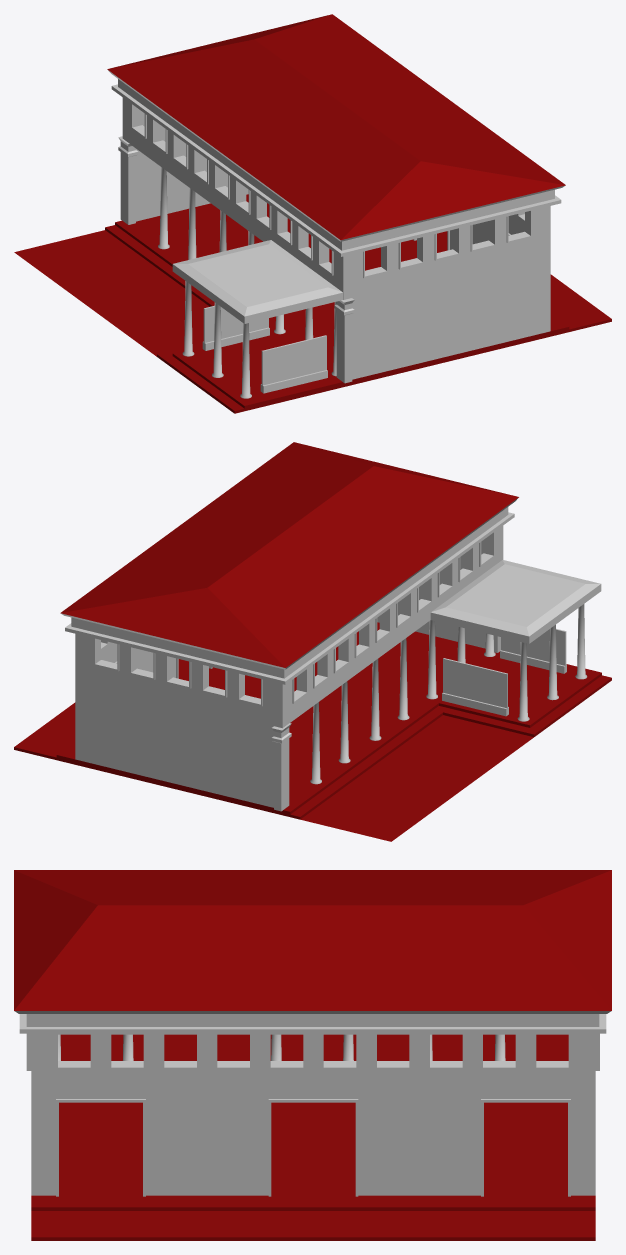
The picture shows the model from 3 angles, top to bottom: view 1: azimuth 30°, elevation 25°; view 2: azimuth 150°, elevation 25°; view 3: azimuth 270°, elevation 25°; orthographic projection. The views are drawn at different scales.
Parts seen in each view (by area): view 1: Plane_020; view 2: Plane_020; view 3: Plane_020.
Part boxes in pixels (bbox=[...]): Plane_020: bbox=[14, 14, 611, 413]; Plane_020: bbox=[14, 442, 611, 841]; Plane_020: bbox=[14, 870, 611, 1240].
Size of the model in its own units: 15.26 by 7.02 by 16.37.
